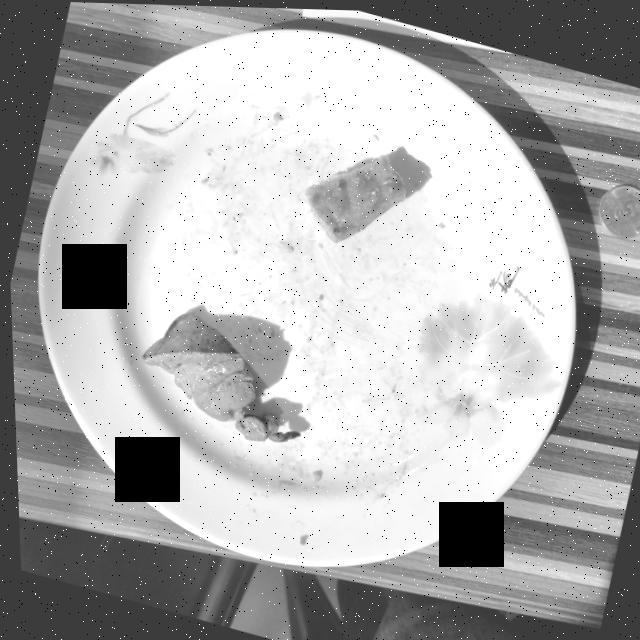coin: (596, 180, 640, 235)
creamy tofu: (304, 152, 404, 240)
pig liver: (138, 309, 297, 441)
